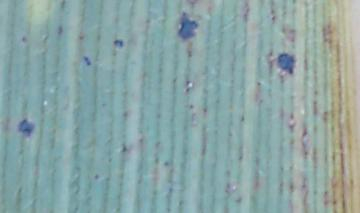tarspot: (176, 10, 200, 44), (274, 52, 296, 75), (16, 118, 35, 137), (118, 140, 129, 153), (112, 39, 126, 48), (82, 55, 92, 67), (58, 1, 67, 14), (56, 21, 63, 36), (91, 172, 101, 180), (19, 34, 27, 43), (255, 79, 263, 87)
